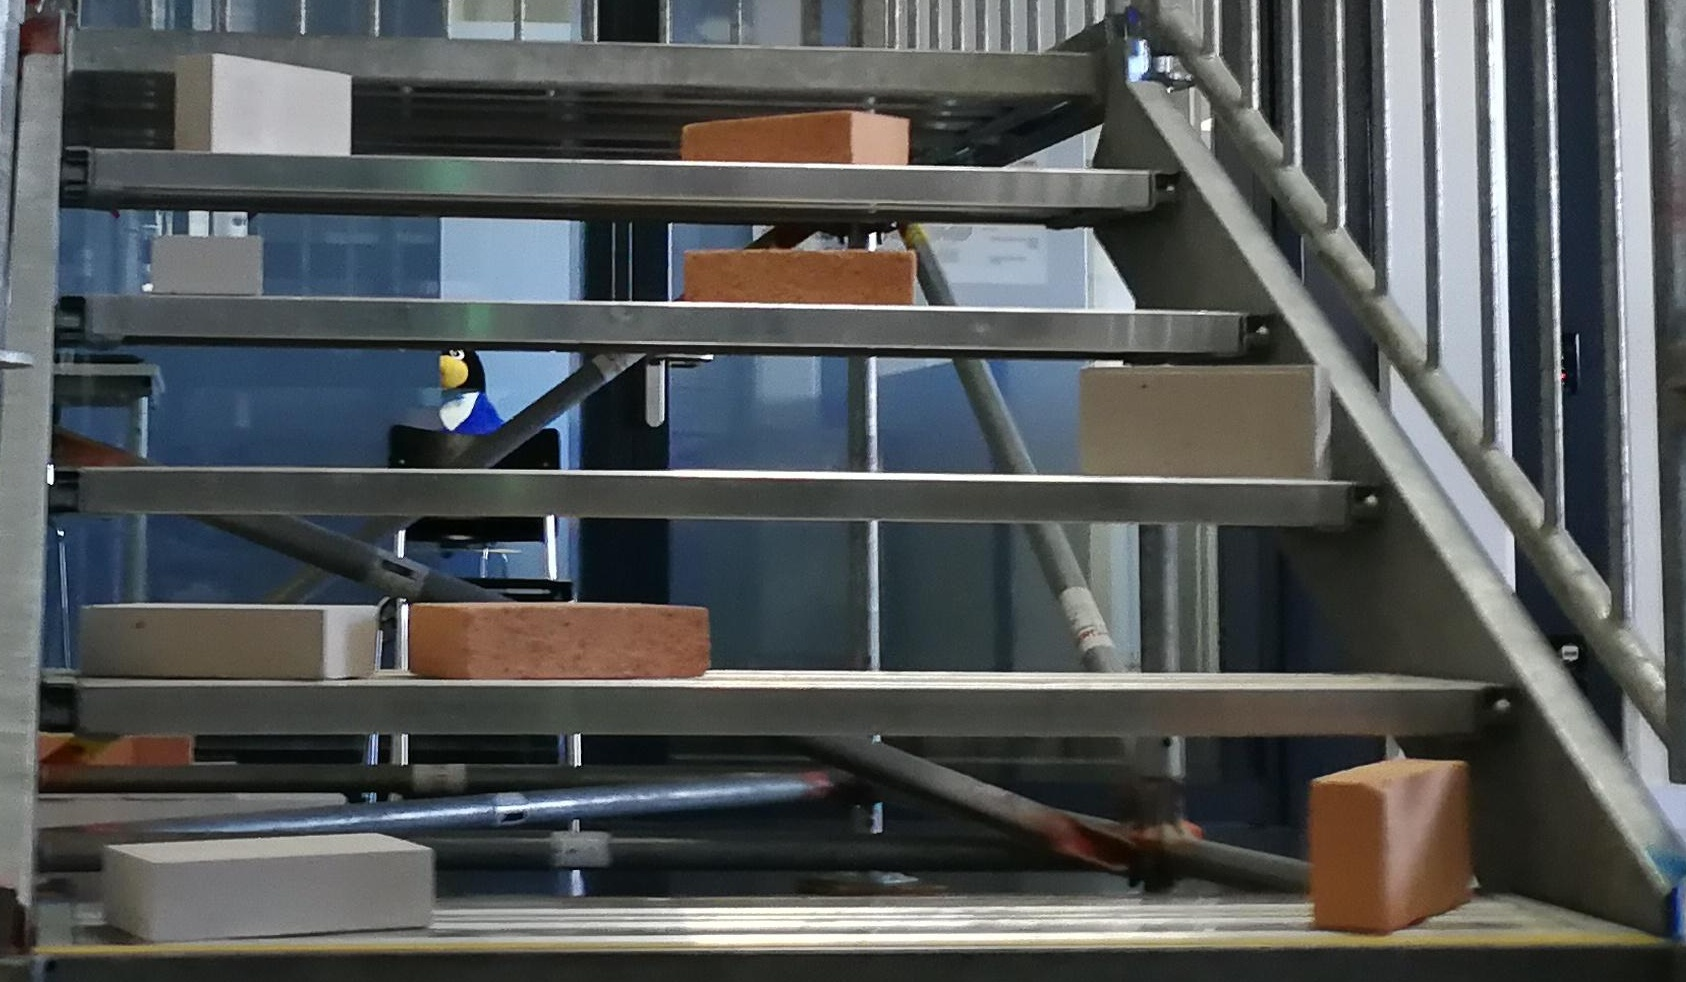brick: (103, 834, 433, 940), (1078, 368, 1327, 480), (1311, 756, 1468, 931), (81, 603, 375, 683), (412, 602, 706, 677), (176, 53, 351, 153), (684, 250, 914, 307), (684, 109, 906, 165), (153, 236, 261, 293)
edge: (46, 678, 1520, 735), (49, 464, 1390, 525), (63, 141, 1182, 213), (60, 293, 1281, 357), (36, 938, 1675, 978)
